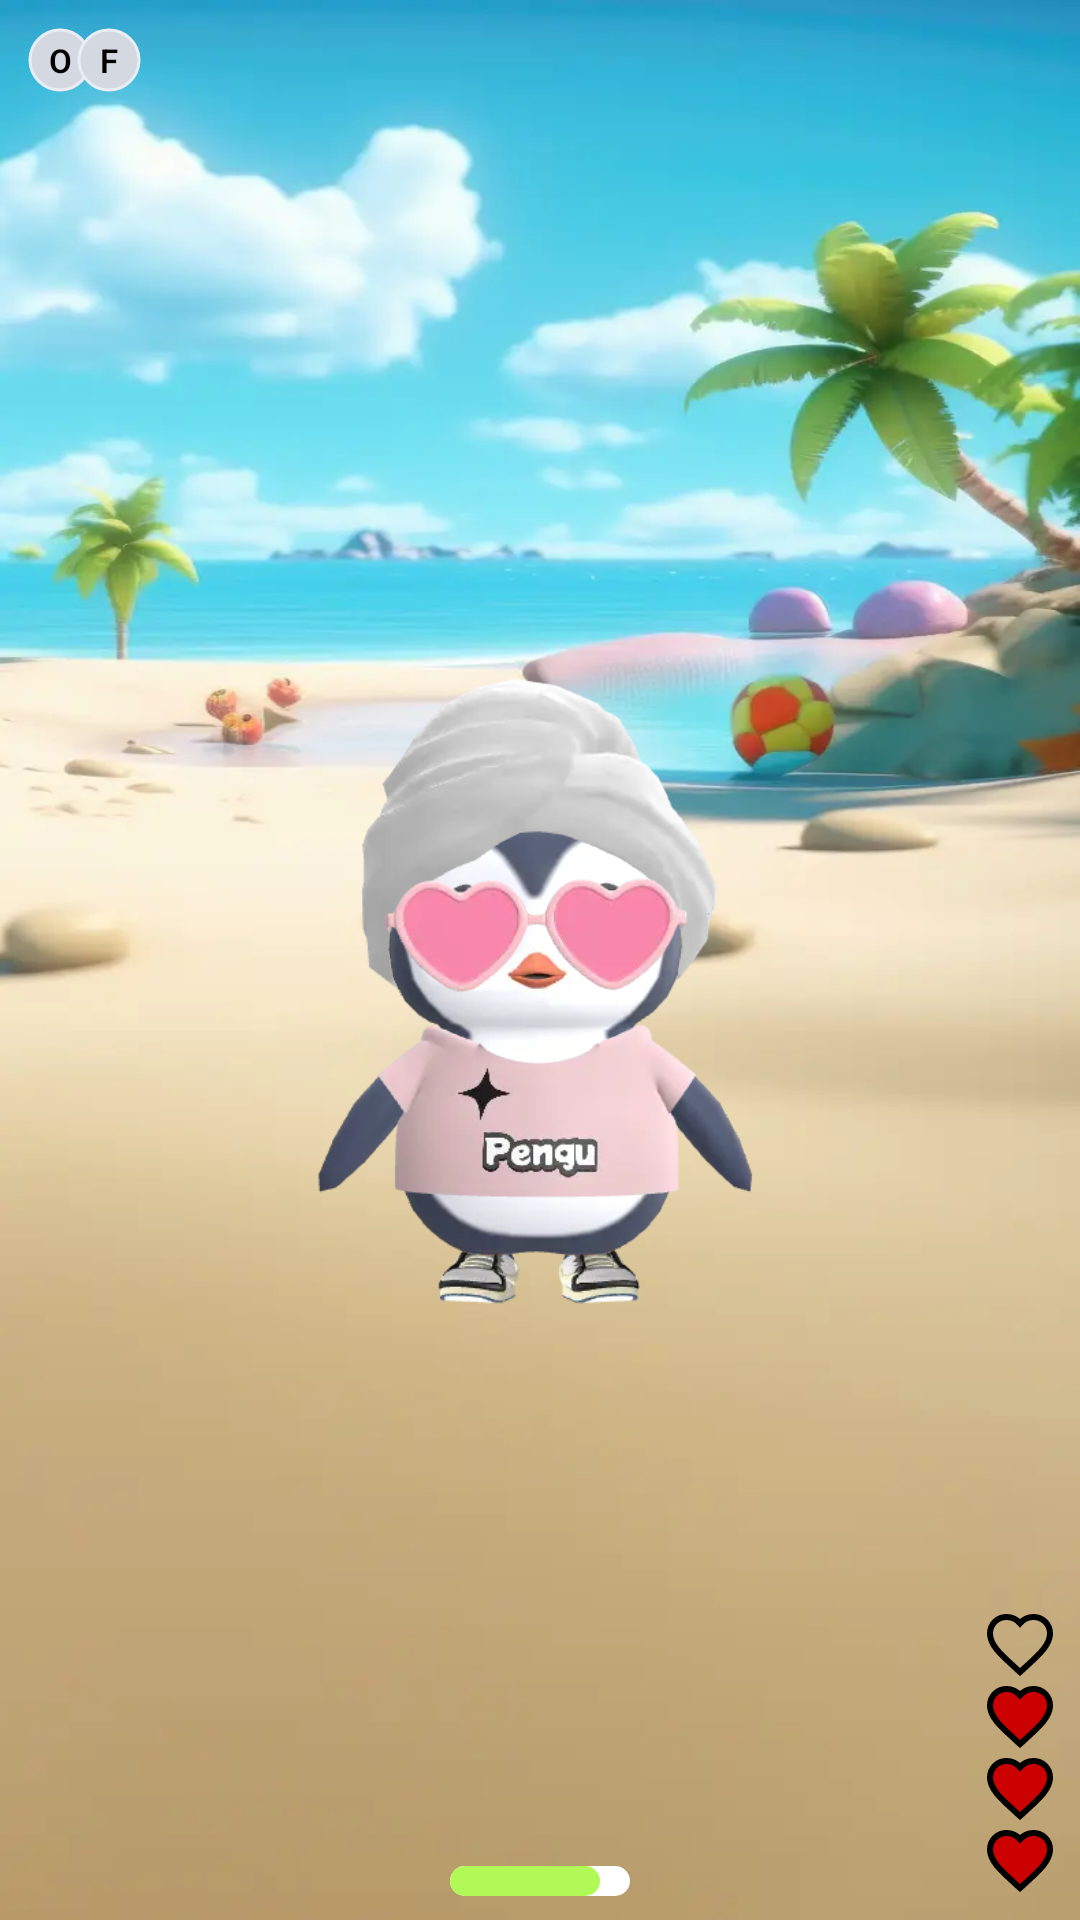

Screen size 1080x1920. Icon name, then its box in pixels as [x1, y1, x2, y2]:
heart: [987, 1686, 1053, 1748], [987, 1758, 1053, 1820], [987, 1830, 1053, 1892]
heart empty: [987, 1614, 1053, 1676]
